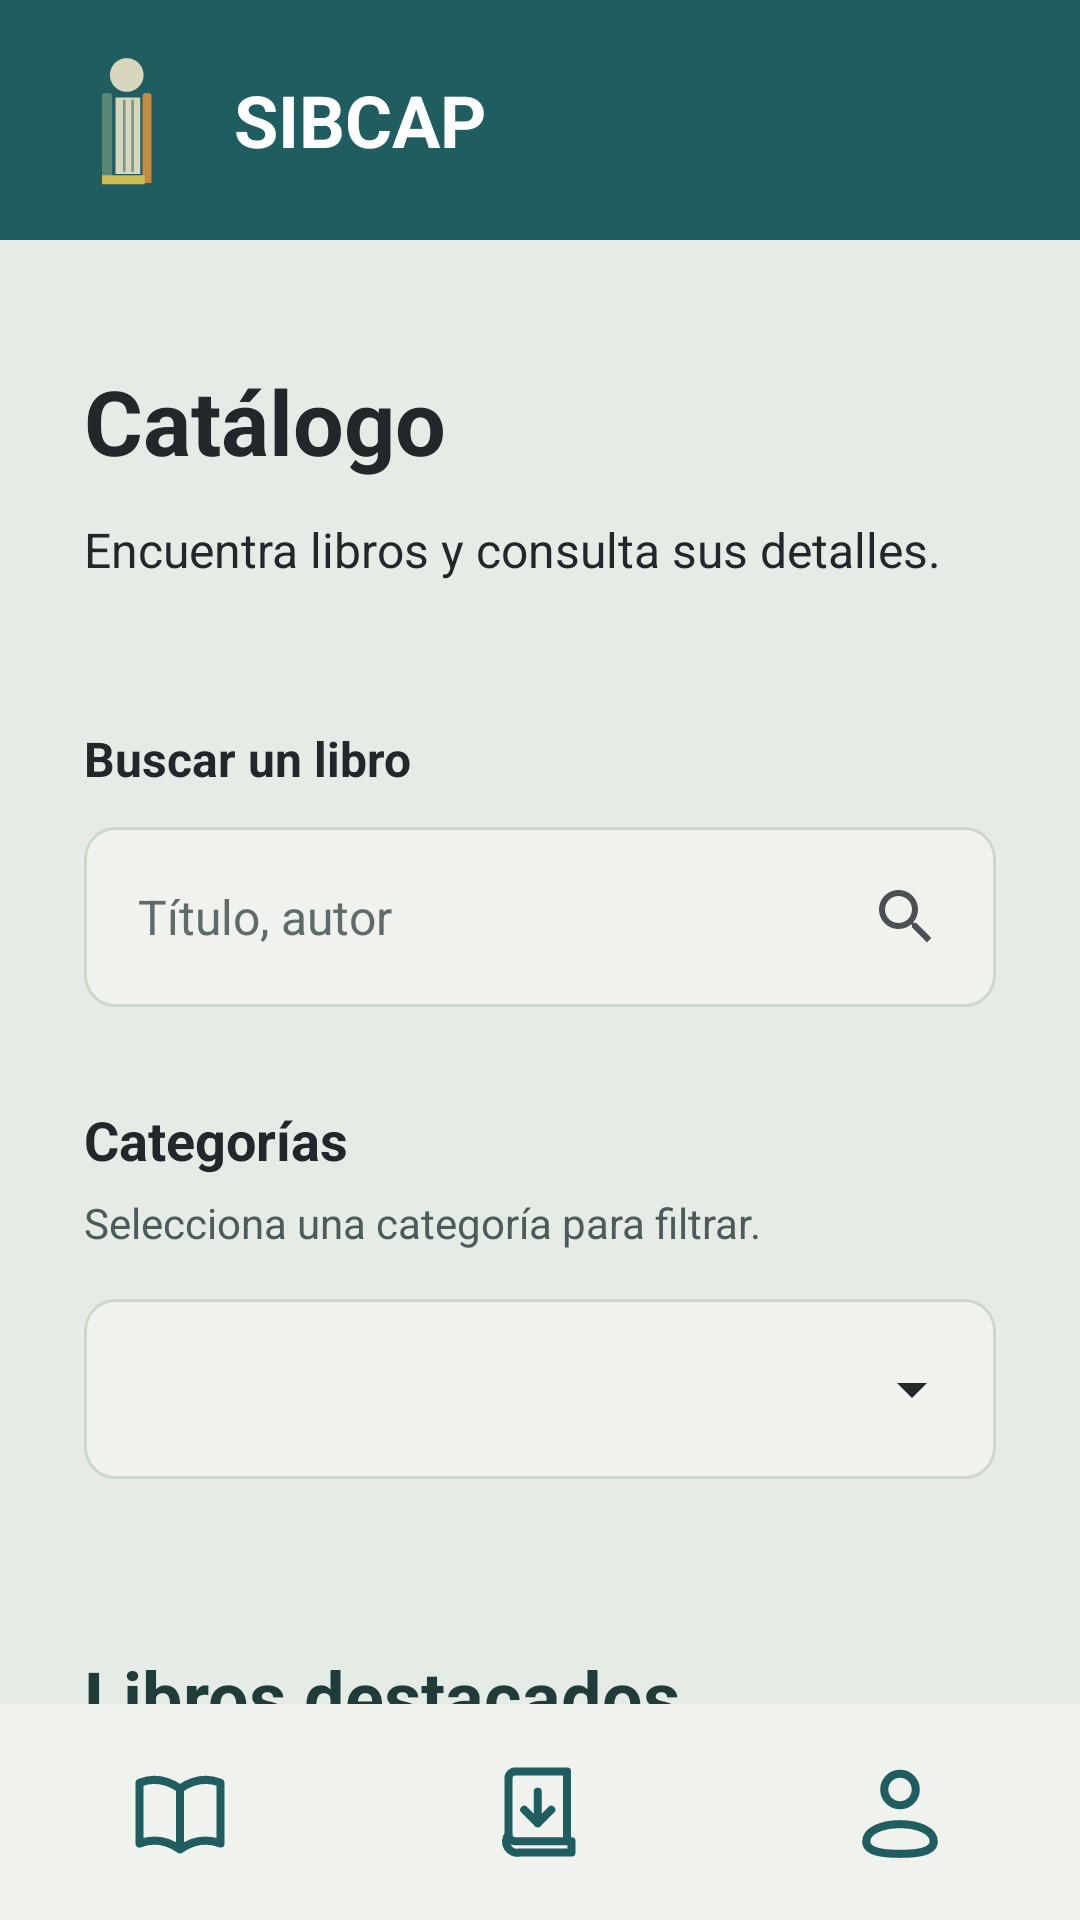

Where to tap for icons on this 1080×1920 app screen, as (x,y):
flecha abajo: (912,1390)
perfil: (900,1813)
prestamos: (539,1812)
